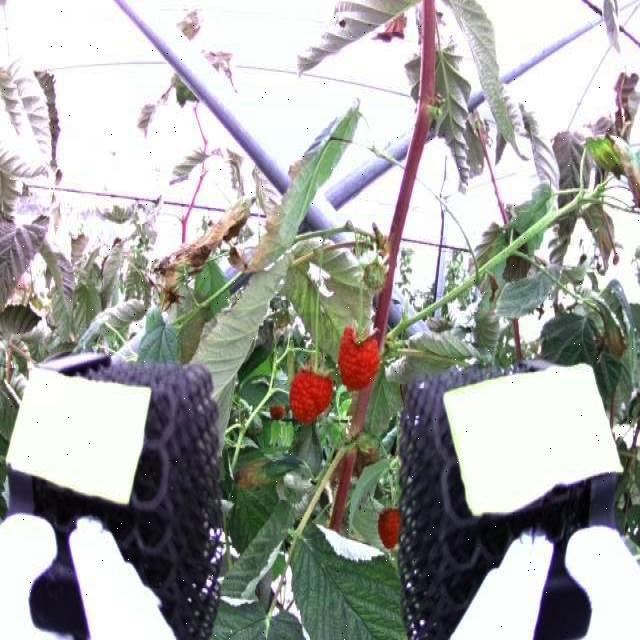Riped berries: (337, 323, 384, 396), (290, 361, 333, 424), (375, 500, 405, 550)
